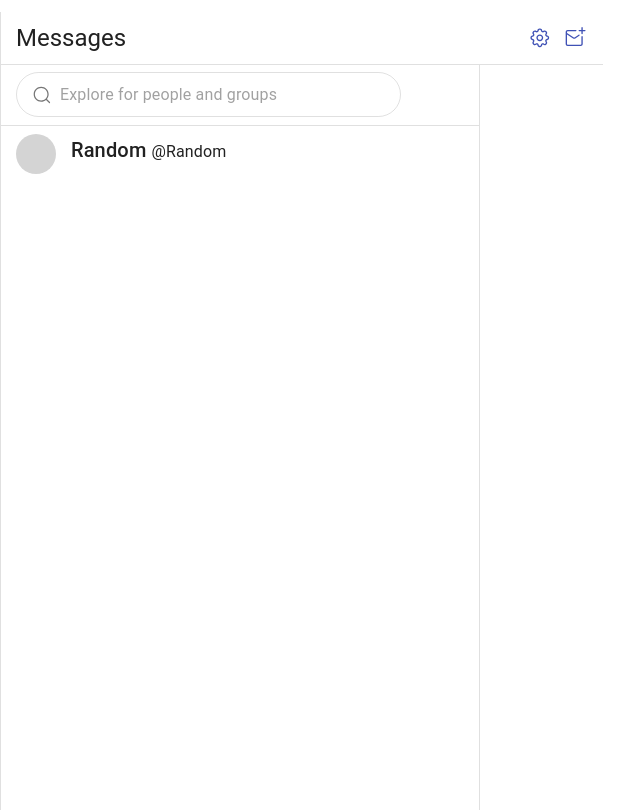
Test: Messages › should hover Settings icon and render Hover Action
Hover over the 1st button.
mouse_move(540, 38)  # box [522, 20, 557, 56]
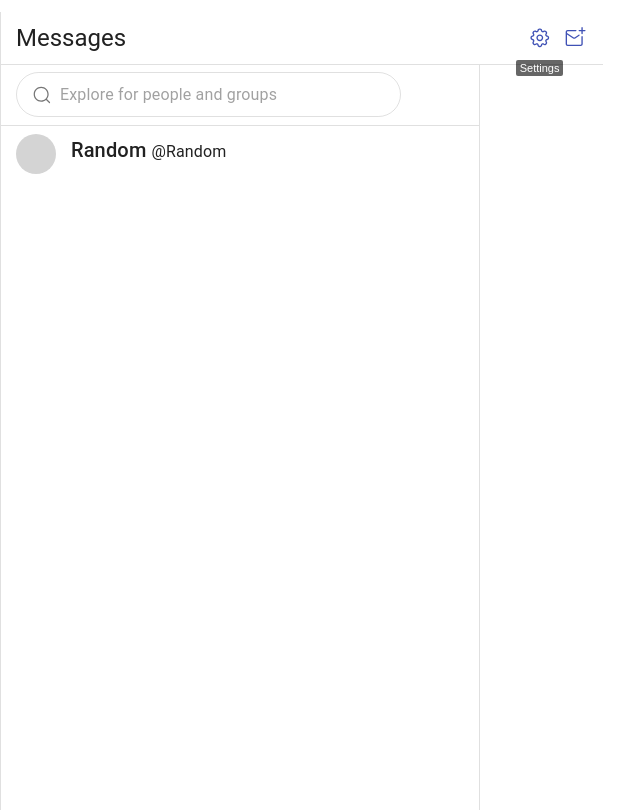
Result: the element showing "Settings" is shown at [516, 60, 564, 76]
